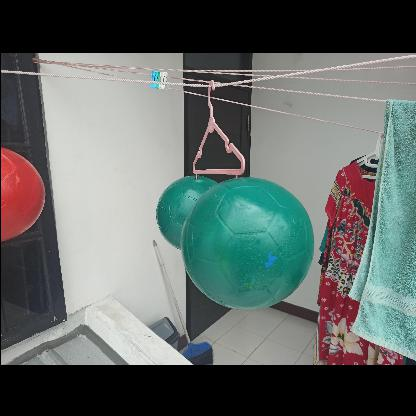green_ball: (181, 175, 315, 309)
